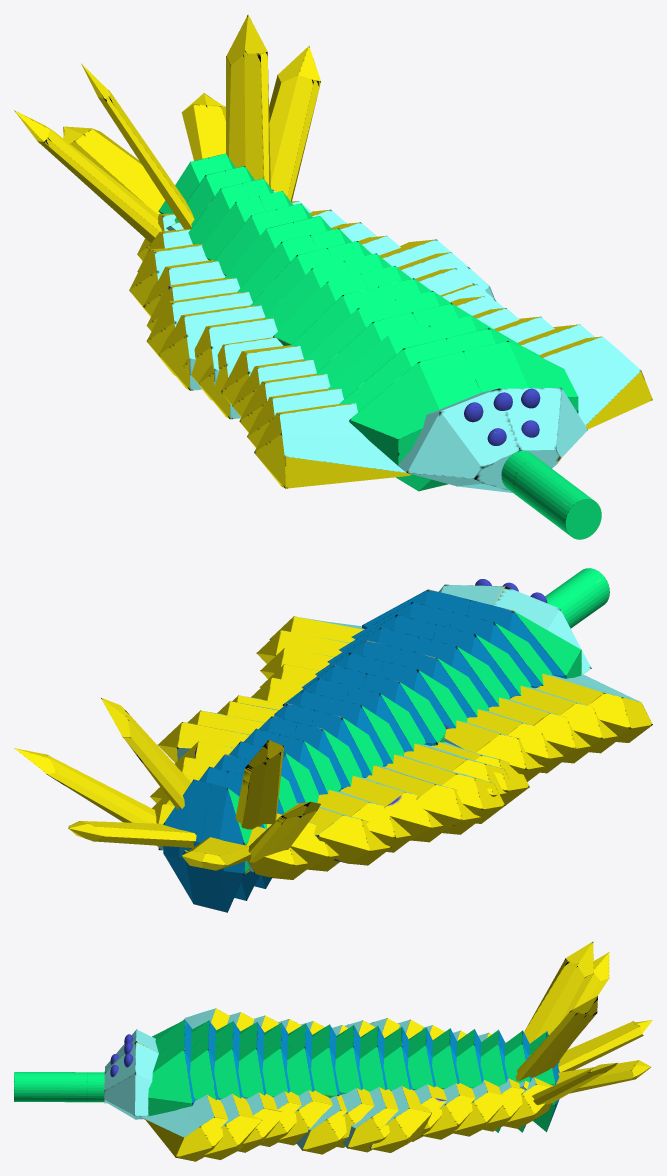
Rendered from enemy32.obj.
3 renders of one model, top to bottom at view 1: azimuth 30°, elevation 25°; view 2: azimuth 150°, elevation 25°; view 3: azimuth 270°, elevation 25°, orthographic. The views are drawn at different scales.
Visible parts, largest first — view 1: 立方体.022_立方体.047, 立方体.020_立方体.045, 立方体_立方体.019, 立方体.018_立方体.043, 立方体.019_立方体.044, 立方体.017_立方体.042, 円柱, 立方体.029_立方体.054, 立方体.028_立方体.053, 立方体.001_立方体.023, 立方体.030_立方体.055, 立方体.002_立方体.024 (+22 smaller); view 2: 立方体.015_立方体.037, 立方体.019_立方体.044, 立方体.018_立方体.043, 立方体.022_立方体.047, 立方体.030_立方体.055, 立方体_立方体.019, 立方体.017_立方体.042, 立方体.021_立方体.046, 立方体.029_立方体.054, 立方体.023_立方体.048, 立方体.001_立方体.023, 立方体.031_立方体.056 (+23 smaller); view 3: 立方体.019_立方体.044, 立方体.022_立方体.047, 立方体_立方体.019, 立方体.020_立方体.045, 立方体.017_立方体.042, 円柱, 立方体.030_立方体.055, 立方体.029_立方体.054, 立方体.021_立方体.046, 立方体.018_立方体.043, 立方体.001_立方体.023, 立方体.002_立方体.024 (+23 smaller).
Part boxes in pixels (x1,y1,x2,y2): 立方体.022_立方体.047: [254, 336, 652, 488]; 立方体.020_立方体.045: [397, 387, 587, 492]; 立方体_立方体.019: [349, 341, 578, 491]; 立方体.018_立方体.043: [14, 46, 320, 242]; 立方体.019_立方体.044: [81, 14, 270, 229]; 立方体.017_立方体.042: [63, 93, 225, 214]; 円柱: [501, 450, 601, 539]; 立方体.029_立方体.054: [159, 252, 494, 390]; 立方体.028_立方体.053: [183, 268, 474, 400]; 立方体.001_立方体.023: [339, 328, 540, 411]; 立方体.030_立方体.055: [146, 239, 450, 375]; 立方体.002_立方体.024: [327, 315, 518, 399]; 立方体.015_立方体.037: [163, 779, 252, 912]; 立方体.019_立方体.044: [101, 698, 283, 829]; 立方体.018_立方体.043: [14, 748, 320, 874]; 立方体.022_立方体.047: [269, 616, 652, 742]; 立方体.030_立方体.055: [158, 722, 480, 834]; 立方体_立方体.019: [362, 589, 581, 678]; 立方体.017_立方体.042: [68, 821, 251, 870]; 立方体.021_立方体.046: [256, 630, 617, 753]; 立方体.029_立方体.054: [187, 710, 505, 823]; 立方体.023_立方体.048: [260, 648, 591, 763]; 立方体.001_立方体.023: [351, 602, 552, 688]; 立方体.031_立方体.056: [174, 741, 442, 842]; 立方体.019_立方体.044: [515, 941, 597, 1081]; 立方体.022_立方体.047: [141, 1008, 229, 1161]; 立方体_立方体.019: [148, 1020, 195, 1116]; 立方体.020_立方体.045: [104, 1029, 158, 1119]; 立方体.017_立方体.042: [553, 1020, 652, 1093]; 円柱: [14, 1072, 104, 1102]; 立方体.030_立方体.055: [369, 1019, 431, 1152]; 立方体.029_立方体.054: [342, 1018, 399, 1152]; 立方体.021_立方体.046: [203, 1012, 261, 1159]; 立方体.018_立方体.043: [532, 952, 617, 1105]; 立方体.001_立方体.023: [190, 1020, 219, 1099]; 立方体.002_立方体.024: [214, 1021, 243, 1099].
Size of the model in its own units: 1.1 by 0.6326 by 2.34.
